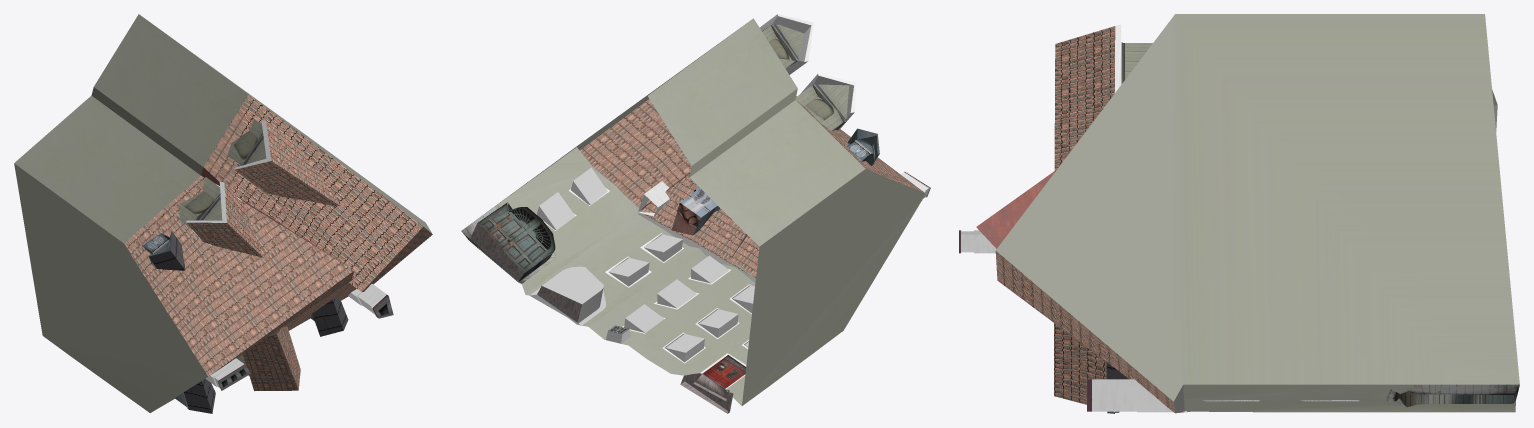
File: Kuninga_2-origo.obj
3 views of the same model, side by side, from view 1: azimuth 30°, elevation 25°; view 2: azimuth 150°, elevation 25°; view 3: azimuth 270°, elevation 25° (orthographic). The views are drawn at different scales.
Parts seen in each view (by area): view 1: Kuninga_2; view 2: Kuninga_2; view 3: Kuninga_2.
Part boxes in pixels (<box>): Kuninga_2: <box>14,14,432,413</box>; Kuninga_2: <box>461,14,930,413</box>; Kuninga_2: <box>959,14,1519,413</box>.
Bounding box in the file's own units: 15.5 × 15 × 17.53.
